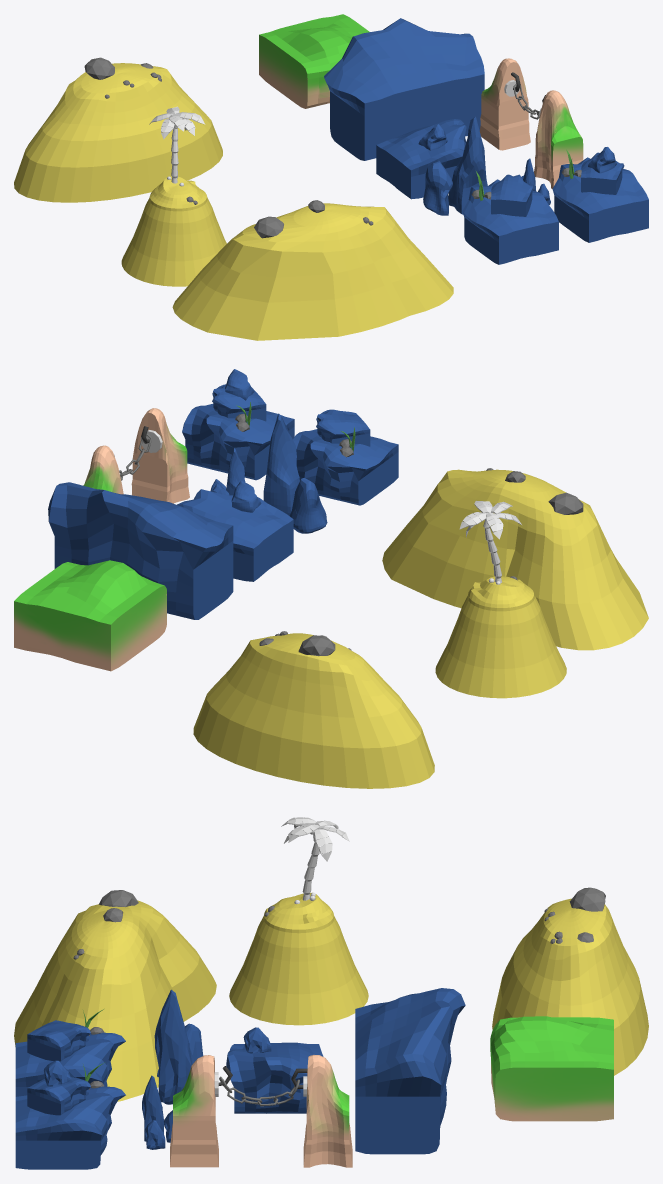
File: cevre3fbx.fbx
The picture shows the model from 3 angles, top to bottom: view 1: azimuth 30°, elevation 25°; view 2: azimuth 150°, elevation 25°; view 3: azimuth 270°, elevation 25°; orthographic projection. The views are drawn at different scales.
Parts seen in each view (by area): view 1: Sphere.005, Sphere.004, 2.1.005, Sphere.006, 2.1.006, 2.1.025, 2.1.007, 2.1.009, 1.1.3 Chain.003, 1.1.3 Chain.002, 2.1.027, 2.1.024 (+6 smaller); view 2: Sphere.005, Sphere.004, 2.1.005, 2.1.006, Sphere.006, 2.1.025, 2.1.009, 2.1.007, 1.1.3 Chain.002, 2.1.027, 2.1.024, 2.1.026 (+4 smaller); view 3: Sphere.005, 2.1.005, Sphere.004, Sphere.006, 2.1.006, 2.1.007, 2.1.009, 1.1.3 Chain.002, 1.1.3 Chain.003, 2.1.025, 2.1.027, 2.1.024 (+7 smaller).
Part boxes in pixels (left/top/right/bottom): Sphere.005: left=172, top=203, right=453, bottom=340; Sphere.004: left=14, top=63, right=222, bottom=202; 2.1.005: left=324, top=18, right=484, bottom=160; Sphere.006: left=121, top=176, right=226, bottom=286; 2.1.006: left=259, top=14, right=369, bottom=108; 2.1.025: left=462, top=179, right=558, bottom=264; 2.1.007: left=552, top=157, right=648, bottom=242; 2.1.009: left=376, top=119, right=466, bottom=199; 1.1.3 Chain.003: left=479, top=58, right=530, bottom=150; 1.1.3 Chain.002: left=534, top=90, right=583, bottom=188; 2.1.027: left=448, top=116, right=487, bottom=214; 2.1.024: left=491, top=174, right=534, bottom=216; Sphere.005: left=382, top=469, right=648, bottom=650; Sphere.004: left=193, top=633, right=434, bottom=788; 2.1.005: left=48, top=482, right=233, bottom=619; 2.1.006: left=14, top=560, right=166, bottom=671; Sphere.006: left=435, top=576, right=566, bottom=698; 2.1.025: left=293, top=429, right=398, bottom=505; 2.1.009: left=177, top=489, right=293, bottom=581; 2.1.007: left=182, top=404, right=294, bottom=480; 1.1.3 Chain.002: left=131, top=408, right=189, bottom=503; 2.1.027: left=263, top=413, right=299, bottom=515; 2.1.024: left=316, top=409, right=370, bottom=446; 2.1.026: left=290, top=478, right=327, bottom=533; Sphere.005: left=14, top=900, right=216, bottom=1101; 2.1.005: left=355, top=988, right=465, bottom=1154; Sphere.004: left=492, top=898, right=648, bottom=1075; Sphere.006: left=229, top=893, right=368, bottom=1025; 2.1.006: left=490, top=1016, right=613, bottom=1121; 2.1.007: left=15, top=1086, right=125, bottom=1169; 2.1.009: left=226, top=1042, right=323, bottom=1113; 1.1.3 Chain.002: left=170, top=1055, right=218, bottom=1167; 1.1.3 Chain.003: left=303, top=1055, right=352, bottom=1167; 2.1.025: left=15, top=1032, right=125, bottom=1096; 2.1.027: left=154, top=989, right=191, bottom=1104; 2.1.024: left=27, top=1020, right=90, bottom=1061.
Bounding box in the file's own units: 27.74 × 9.21 × 29.93.
